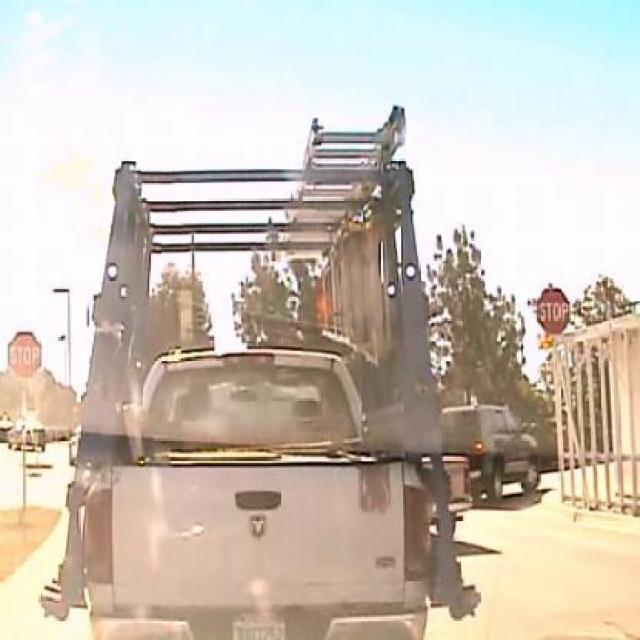Stop: (536, 287, 572, 336), (8, 331, 42, 382)
